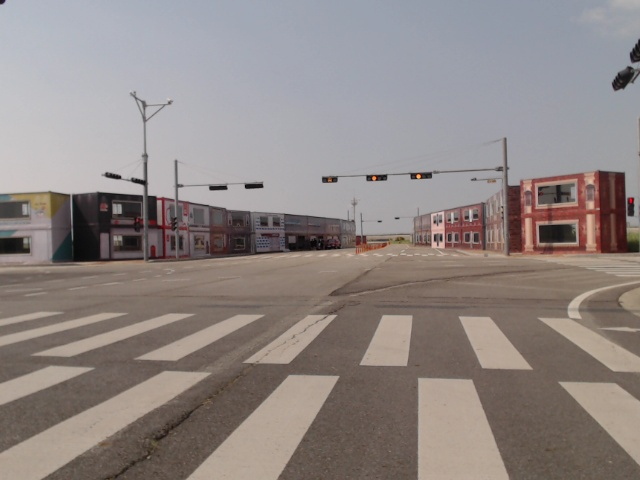orange_4: (363, 174, 390, 182), (409, 171, 433, 180)
